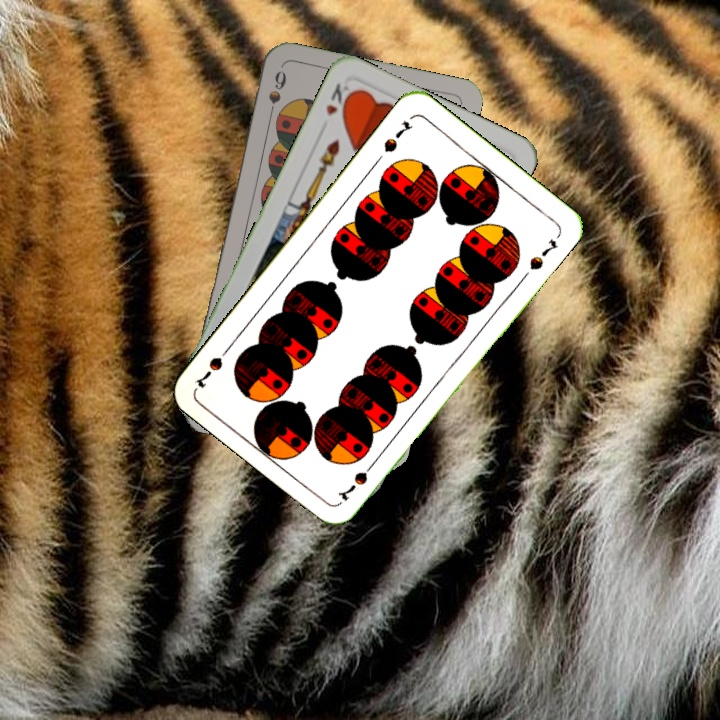HK: (322, 79, 356, 119)
S7: (334, 455, 380, 503), (379, 116, 416, 155)
S9: (264, 67, 289, 124)
